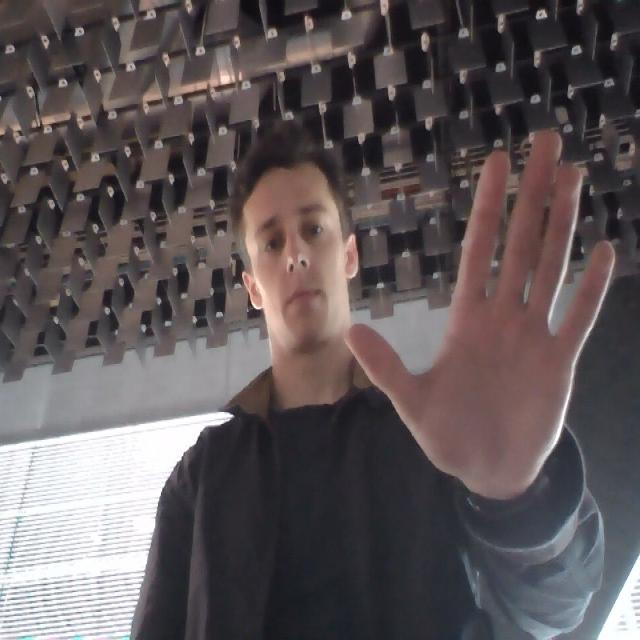backward: (340, 100, 618, 493)
